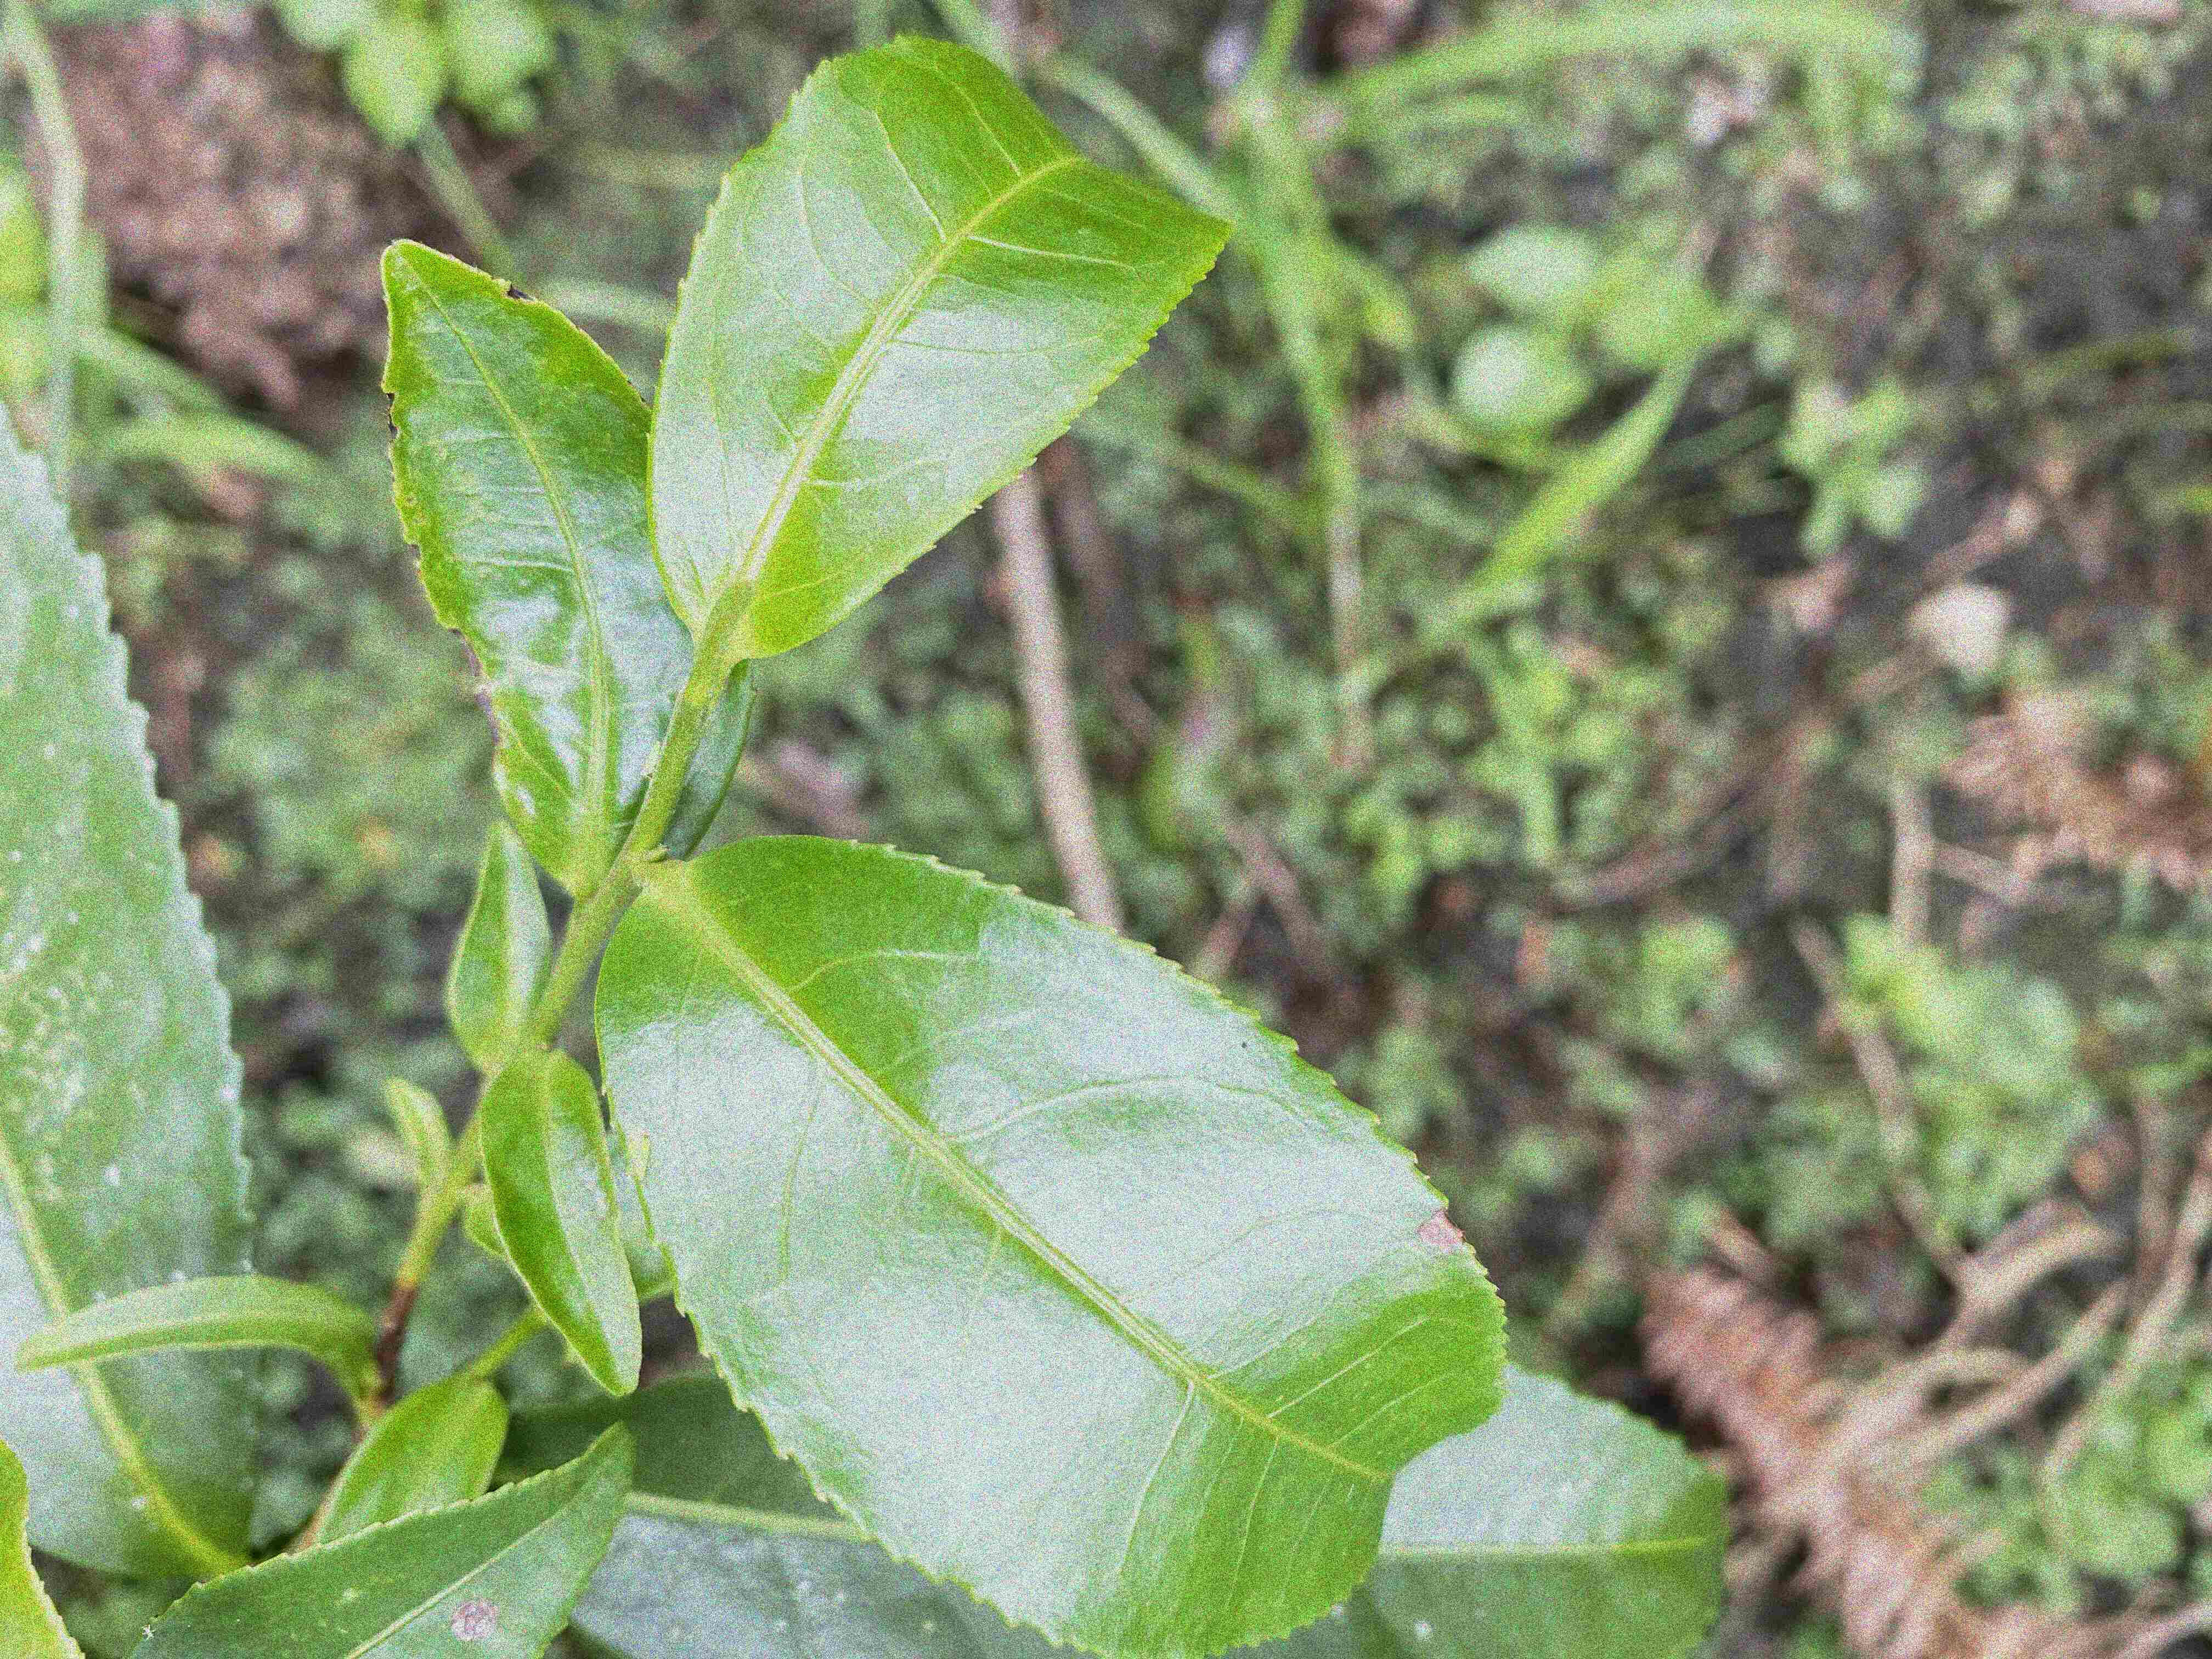healthy: (641, 40, 1231, 662), (479, 1040, 644, 1405)
tanju_low: (603, 831, 1514, 1657), (376, 237, 756, 896), (125, 1424, 636, 1657)
